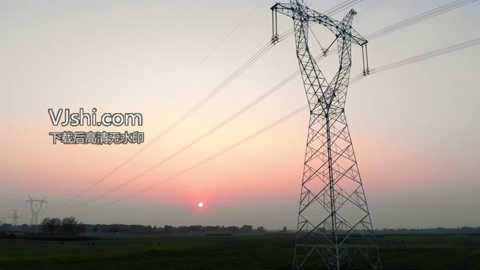tower_body: (262, 1, 397, 237)
tower_foot: (295, 165, 371, 232)
tower_head: (267, 2, 372, 115)
